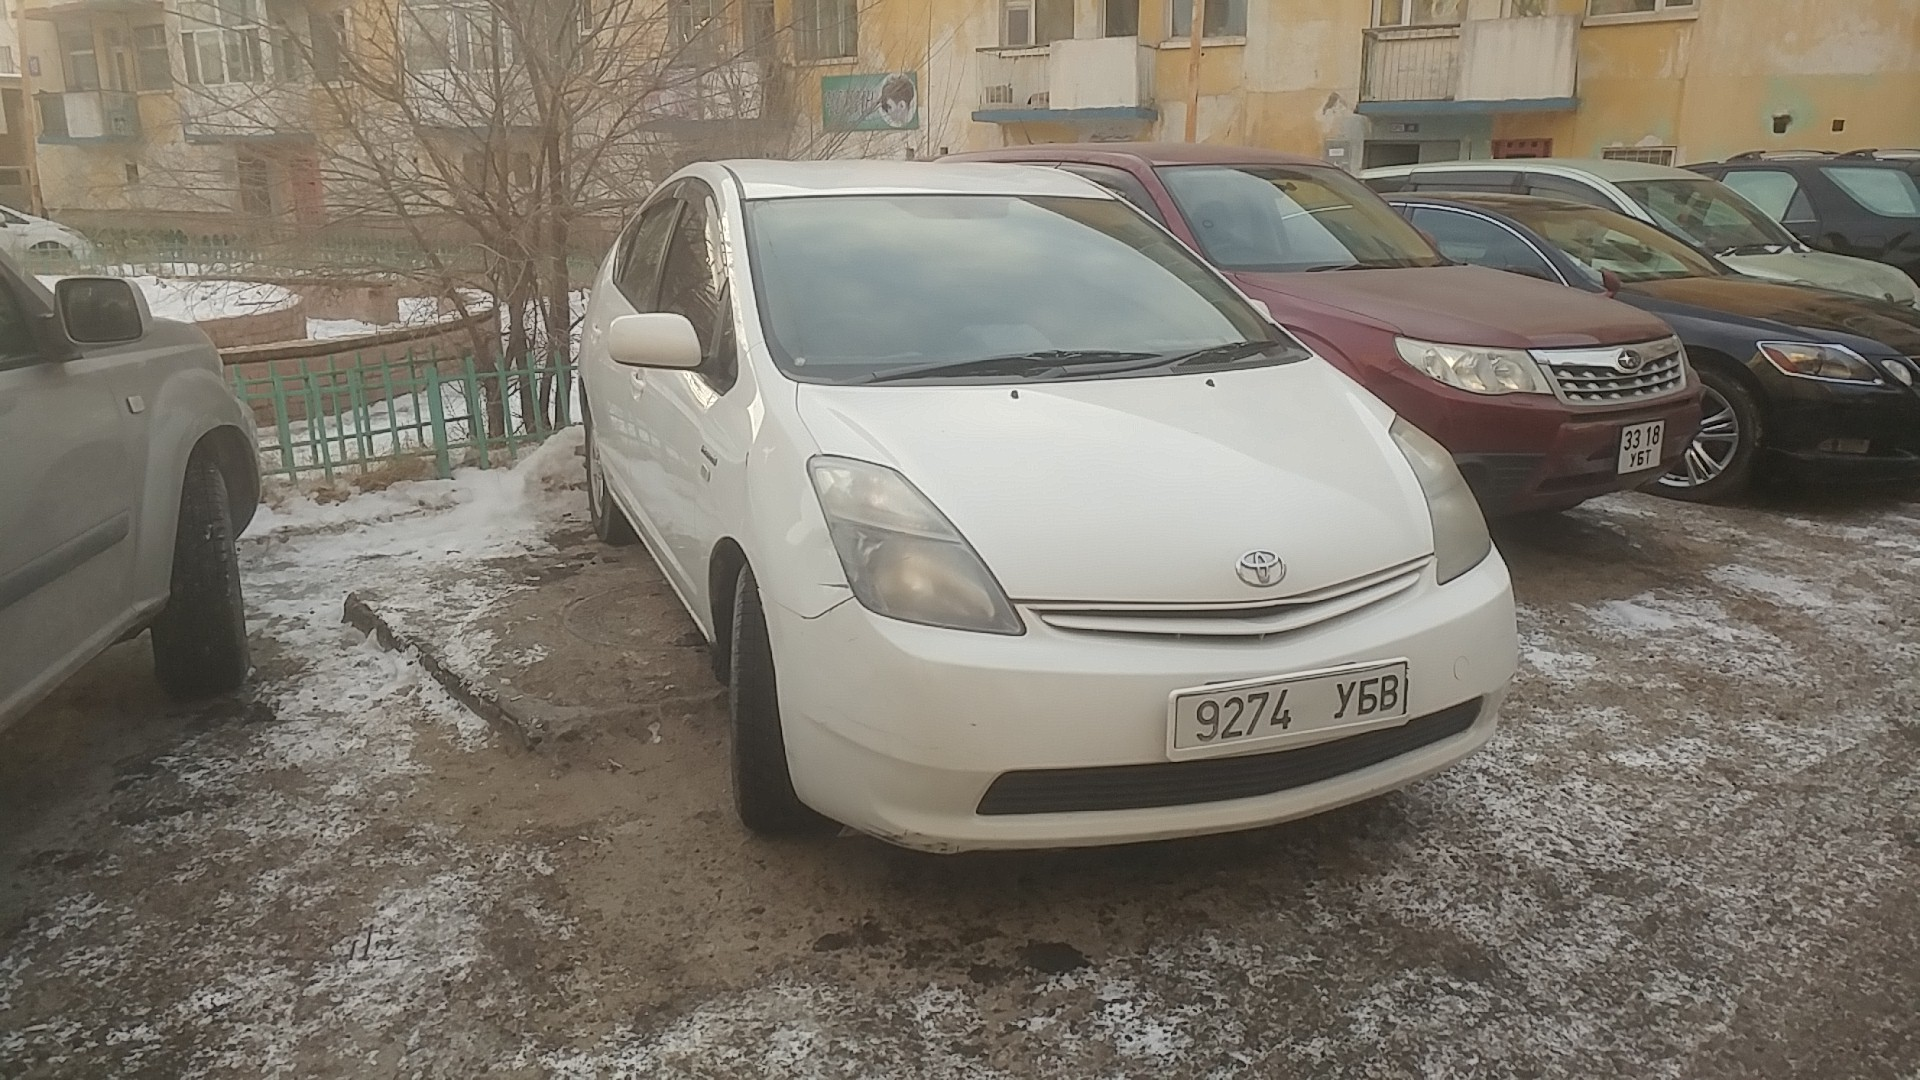2: (1222, 696, 1246, 739)
4: (1270, 689, 1293, 731)
7: (1246, 691, 1269, 735)
9: (1196, 698, 1221, 743)
b: (1356, 677, 1379, 715)
plate: (1166, 657, 1414, 762)
u: (1333, 680, 1357, 720)
v: (1379, 673, 1401, 712)
